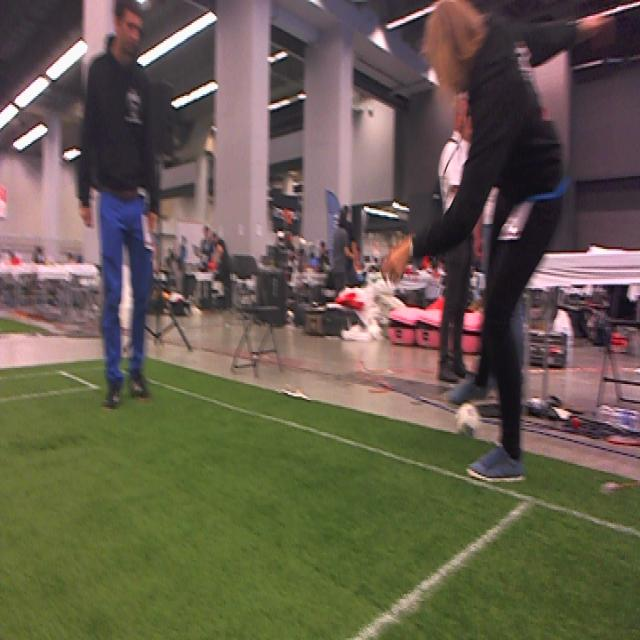ball: (452, 394, 487, 444)
